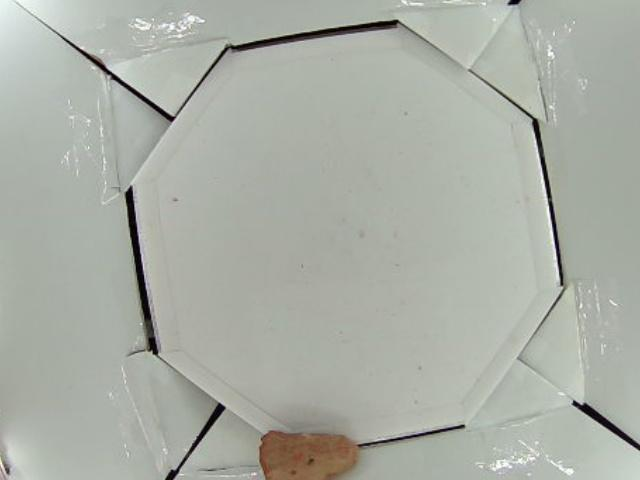Brisk: (259, 433, 360, 480)
